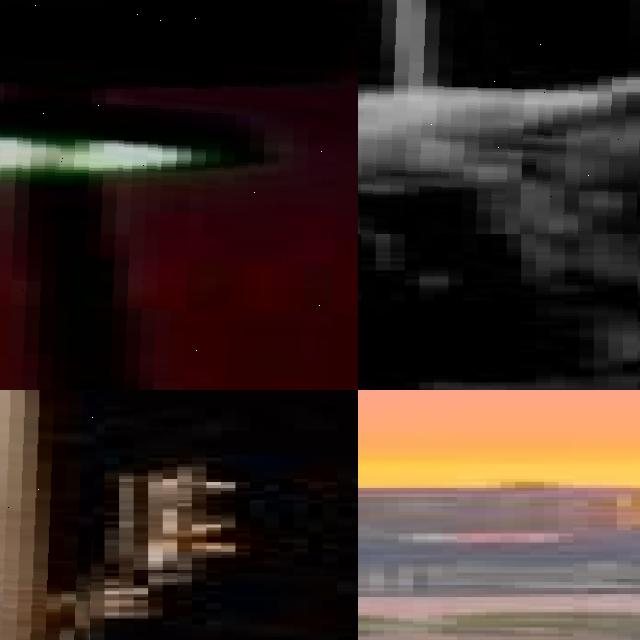street light: (0, 0, 358, 390), (358, 0, 640, 234), (0, 390, 104, 640)
